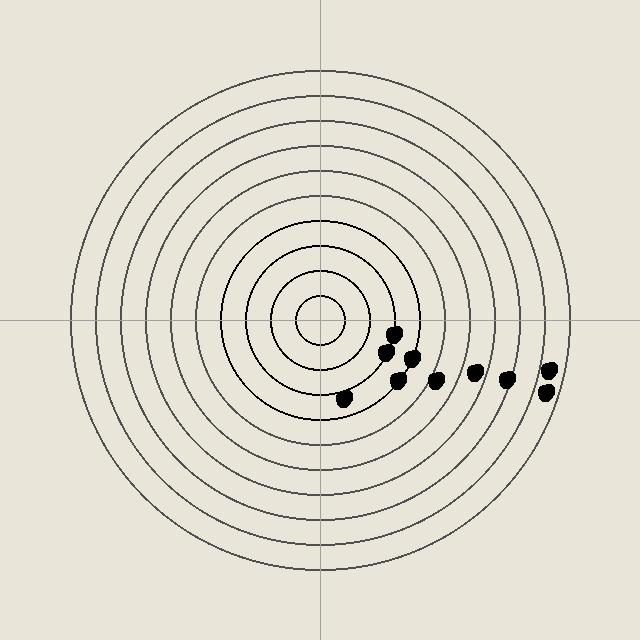horizontal_scatter: (535, 382, 555, 402), (387, 370, 407, 390), (333, 388, 353, 408), (375, 342, 395, 362), (401, 348, 421, 368), (464, 362, 484, 382), (425, 370, 445, 390), (383, 324, 403, 344), (538, 360, 558, 380), (496, 369, 516, 389)
